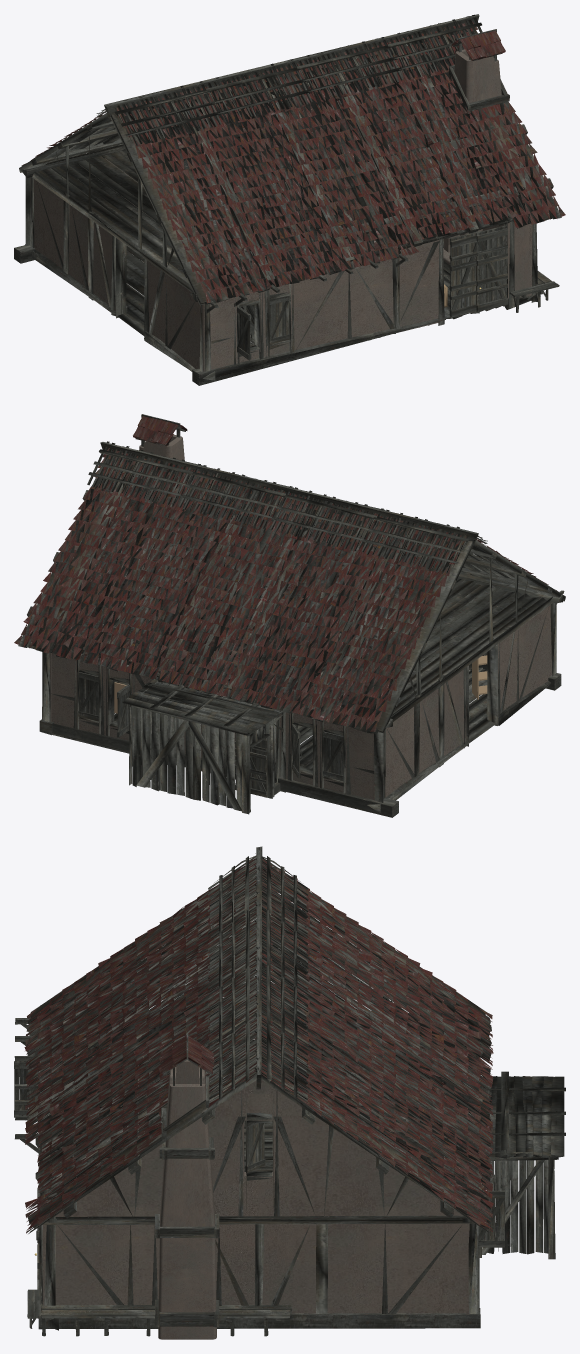
Rendered from house.glb.
3 views of the same model, one above another, from view 1: azimuth 30°, elevation 25°; view 2: azimuth 150°, elevation 25°; view 3: azimuth 270°, elevation 25° (orthographic). The views are drawn at different scales.
Visible parts, largest first — view 1: Circle.100, Circle.098, Circle.104, Cube.009, Circle.060, Cube.004, Circle.106, Circle.101, Circle.082, Circle.097, Door_House, Cube.007 (+5 smaller); view 2: Circle.100, Circle.098, Circle.104, Circle.109, Circle.060, Cube.004, Circle.106, Cube.009, Circle.101, Circle.097, Circle.105, Circle.108 (+6 smaller); view 3: Circle.100, Circle.098, Cube.004, Circle.104, Cube.008, Circle.060, Circle.109, Cube.007, Circle.101, Circle.063, Circle.094, Circle.106 (+6 smaller).
Boxes of the visible parts, x1,y1,x2,y2 form: Circle.100: (21,21,565,303); Circle.098: (49,29,561,304); Circle.104: (14,31,547,385); Cube.009: (80,112,529,369); Circle.060: (96,14,493,145); Cube.004: (30,150,532,371); Circle.106: (34,98,513,284); Circle.101: (31,51,553,281); Circle.082: (475,225,507,311); Circle.097: (104,14,479,118); Door_House: (449,231,481,317); Cube.007: (443,49,501,264); Circle.100: (14,448,558,731); Circle.098: (18,456,521,733); Circle.104: (32,459,565,817); Circle.109: (122,675,285,814); Circle.060: (87,441,487,573); Cube.004: (49,605,552,799); Circle.106: (84,527,546,716); Cube.009: (51,591,507,799); Circle.101: (27,490,552,710); Circle.097: (100,442,478,547); Circle.105: (114,633,495,769); Circle.108: (235,732,267,797); Circle.100: (24,858,493,1233); Circle.098: (27,865,491,1233); Cube.004: (42,1071,469,1313); Circle.104: (30,860,486,1330); Cube.008: (55,1080,462,1216); Circle.060: (207,853,308,1102); Circle.109: (479,1071,565,1259); Cube.007: (158,1060,216,1339); Circle.101: (35,906,482,1218); Circle.063: (155,1033,219,1327); Circle.094: (41,1304,291,1318); Circle.106: (43,1017,474,1205).
Bounding box in the file's own units: 13.61 × 7.95 × 13.8.
9 materials, 3 textured.
